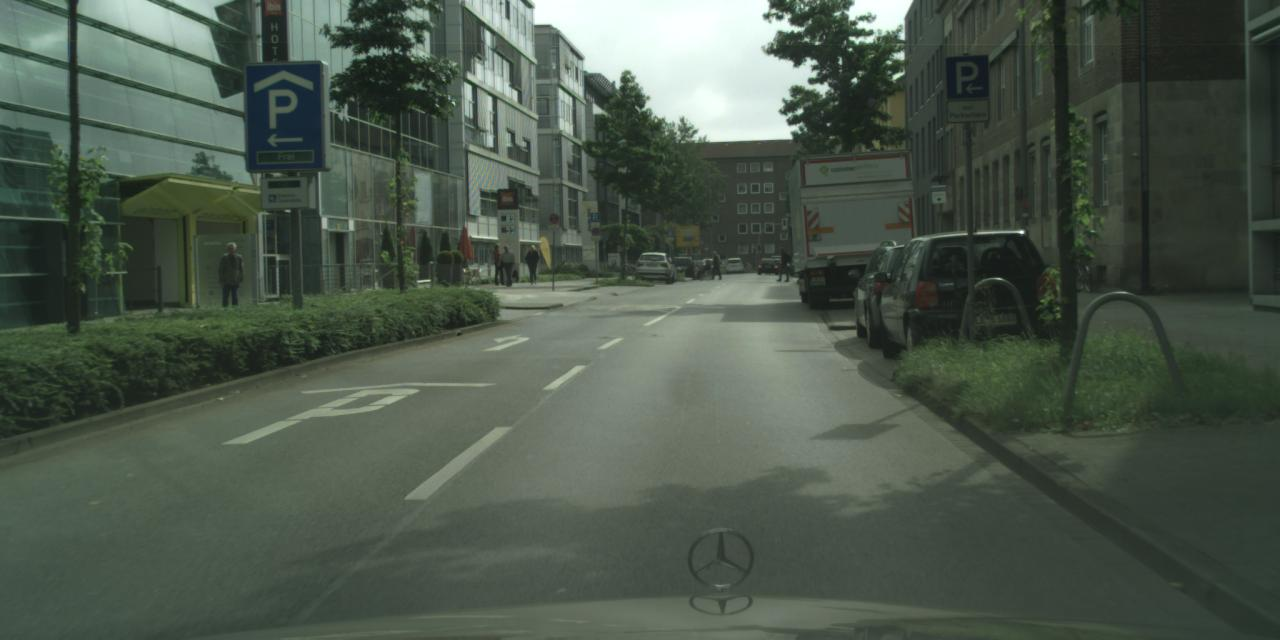ped: (215, 241, 246, 318), (490, 242, 506, 284), (524, 244, 540, 284), (499, 244, 514, 284), (774, 246, 788, 282), (710, 250, 720, 278)
